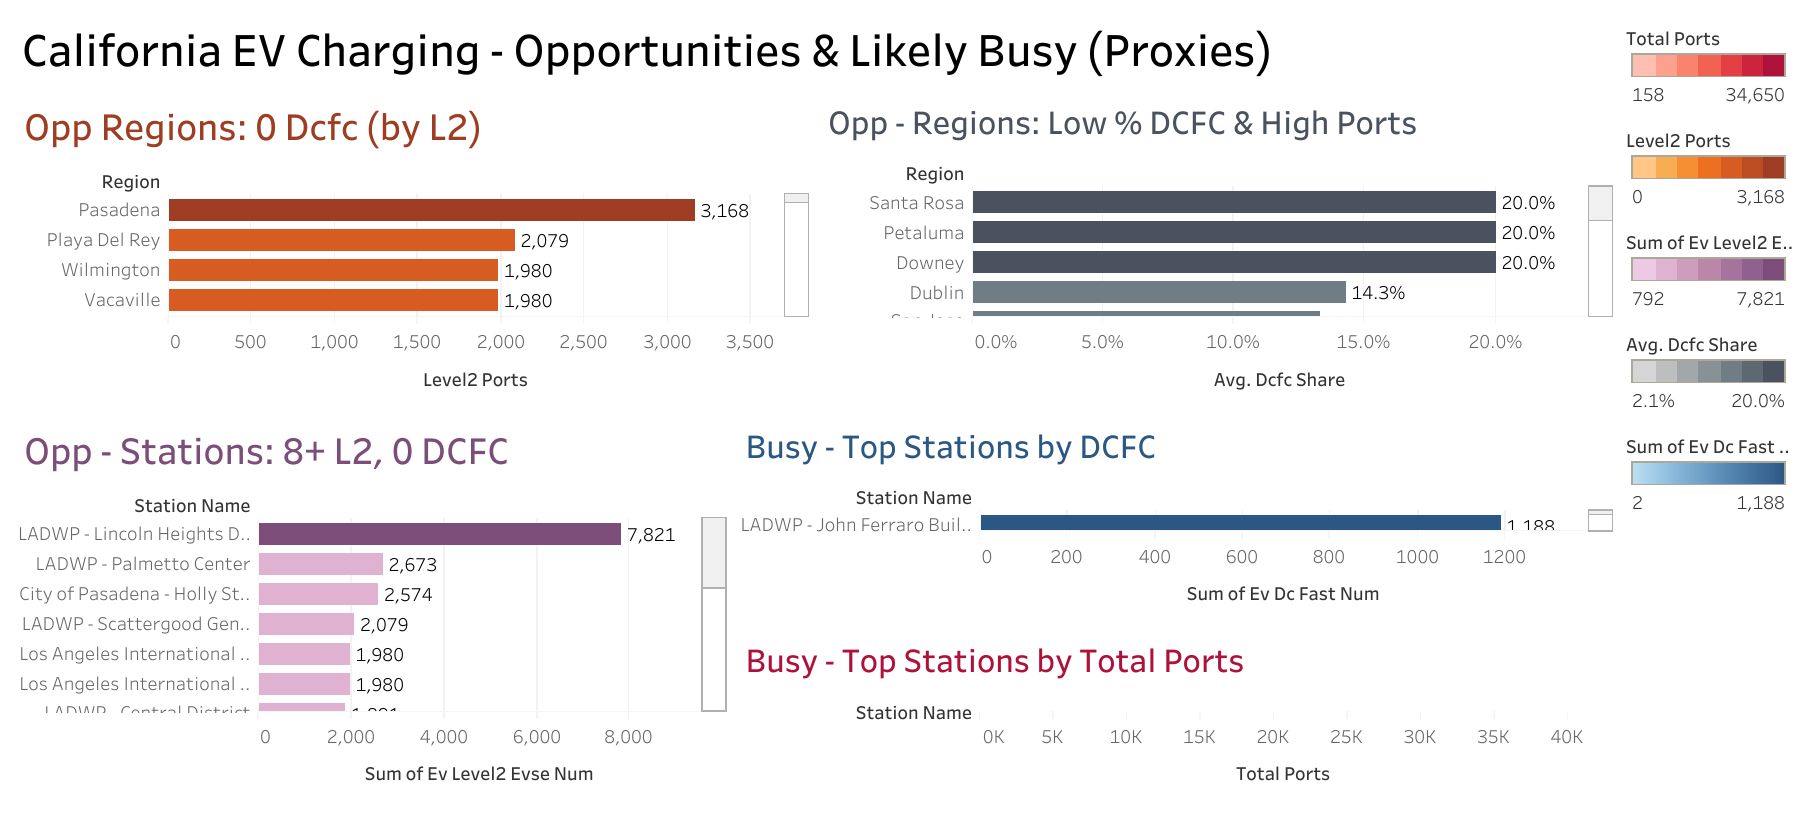

The dashboard page shown, as its layout file describes it:
{"tool":"tableau","page":{"name":"Opportunities & Busy (v1)","canvas":[1000,1000],"units":"permille","ordinal":2},"visuals":[{"type":"title","box":[7.6,15.4,886,92.7]},{"type":"legend","title":"Busy - Top Stations by Total Ports","param":"[federated.1gsn24z17fmwcb1gb68g81w88px3].[sum:total_ports:qk]","box":[893.6,15.4,98.7,131.3]},{"type":"worksheet","title":"Opp - Regions: 0 DCFC (by L2)","mark":"Bar","rows":["region"],"cols":["level2_ports"],"box":[7.6,108.1,443,394.8]},{"type":"worksheet","title":"Opp - Regions: Low % DCFC & High Ports","mark":"Bar","rows":["region"],"cols":["dcfc_share"],"box":[450.6,108.1,443,394.8]},{"type":"legend","title":"Opp - Regions: 0 DCFC (by L2)","param":"[federated.0cmo2jm1tpkys41h1s21p04ogktn].[sum:level2_ports:qk]","box":[893.6,146.7,98.7,131.3]},{"type":"legend","title":"Opp - Stations: 8+ L2, 0 DCFC","param":"[federated.0avaqvu0pbwt101fymq5i1a278ea].[sum:ev_level2_evse_num:qk]","box":[893.6,278,98.7,131.3]},{"type":"legend","title":"Opp - Regions: Low % DCFC & High Ports","param":"[federated.178nq5y1mtupdl19cnz5y0dciyg3].[avg:dcfc_share:qk]","box":[893.6,409.2,98.7,131.3]},{"type":"worksheet","title":"Opp - Stations: 8+ L2, 0 DCFC","mark":"Automatic","rows":["station_name"],"cols":["ev_level2_evse_num"],"box":[7.6,502.9,397.8,481.6]},{"type":"worksheet","title":"Busy - Top Stations by DCFC","mark":"Bar","rows":["station_name"],"cols":["ev_dc_fast_num"],"box":[405.4,502.9,488.2,262.5]},{"type":"legend","title":"Busy - Top Stations by DCFC","param":"[federated.0vkesde0w9tmjb1b7tz2z1e83pl0].[sum:ev_dc_fast_num:qk]","box":[893.6,540.5,98.7,131.3]},{"type":"worksheet","title":"Busy - Top Stations by Total Ports","mark":"Bar","rows":["station_name"],"cols":["total_ports"],"box":[405.4,765.4,488.2,219.1]}]}

Visuals, with their boxes on the dashboard's canvas, which has no fixed pixel size, in thousandths of its width and height (x1, y1, x2, y2). These are canvas units, not pixel positions in the 1809x813 screenshot, which may show the page scaled, cropped or inside an application window:
title: 8, 15, 894, 108
"Busy - Top Stations by Total Ports" legend: 894, 15, 992, 147
"Opp - Regions: 0 DCFC (by L2)" worksheet (Bar marks): 8, 108, 451, 503
"Opp - Regions: Low % DCFC & High Ports" worksheet (Bar marks): 451, 108, 894, 503
"Opp - Regions: 0 DCFC (by L2)" legend: 894, 147, 992, 278
"Opp - Stations: 8+ L2, 0 DCFC" legend: 894, 278, 992, 409
"Opp - Regions: Low % DCFC & High Ports" legend: 894, 409, 992, 540
"Opp - Stations: 8+ L2, 0 DCFC" worksheet: 8, 503, 405, 984
"Busy - Top Stations by DCFC" worksheet (Bar marks): 405, 503, 894, 765
"Busy - Top Stations by DCFC" legend: 894, 540, 992, 672
"Busy - Top Stations by Total Ports" worksheet (Bar marks): 405, 765, 894, 984
